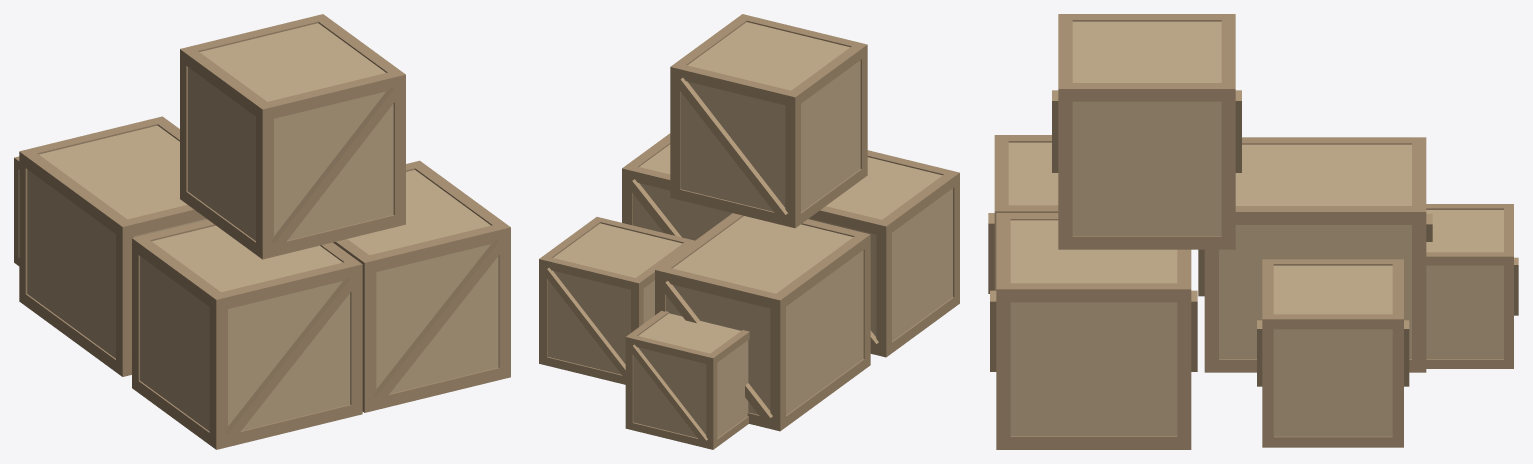
File: dm_cratestack.glb
The picture shows the model from 3 angles, left to right: view 1: azimuth 30°, elevation 25°; view 2: azimuth 150°, elevation 25°; view 3: azimuth 270°, elevation 25°; orthographic projection. The views are drawn at different scales.
Parts seen in each view (by area): view 1: dm_cratestack; view 2: dm_cratestack; view 3: dm_cratestack.
Part boxes in pixels (x1,y1,x2,y2): dm_cratestack: (14,14,510,449); dm_cratestack: (539,14,959,449); dm_cratestack: (988,14,1518,449).
Bounding box in the file's own units: 2.06 × 2 × 2.99.
